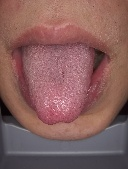tongue: (22, 49, 96, 126)
